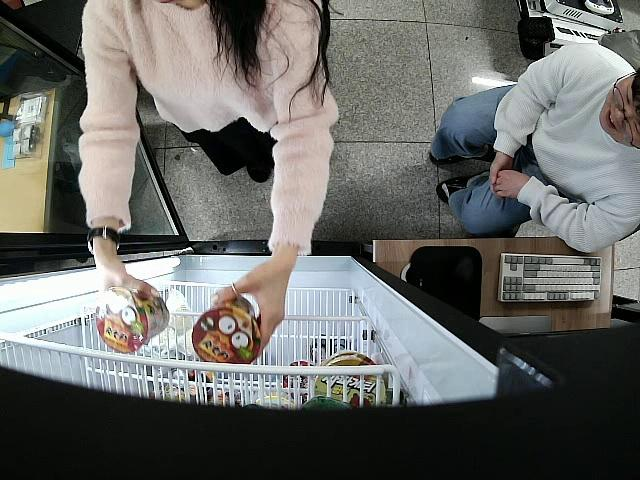00_hand: (209, 259, 291, 364), (93, 246, 161, 298)
06_nuguri_S: (191, 294, 263, 365), (94, 288, 169, 352)
